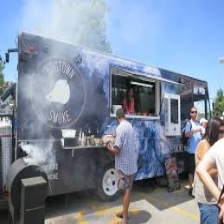smoke: (54, 1, 95, 59), (19, 134, 55, 175)
